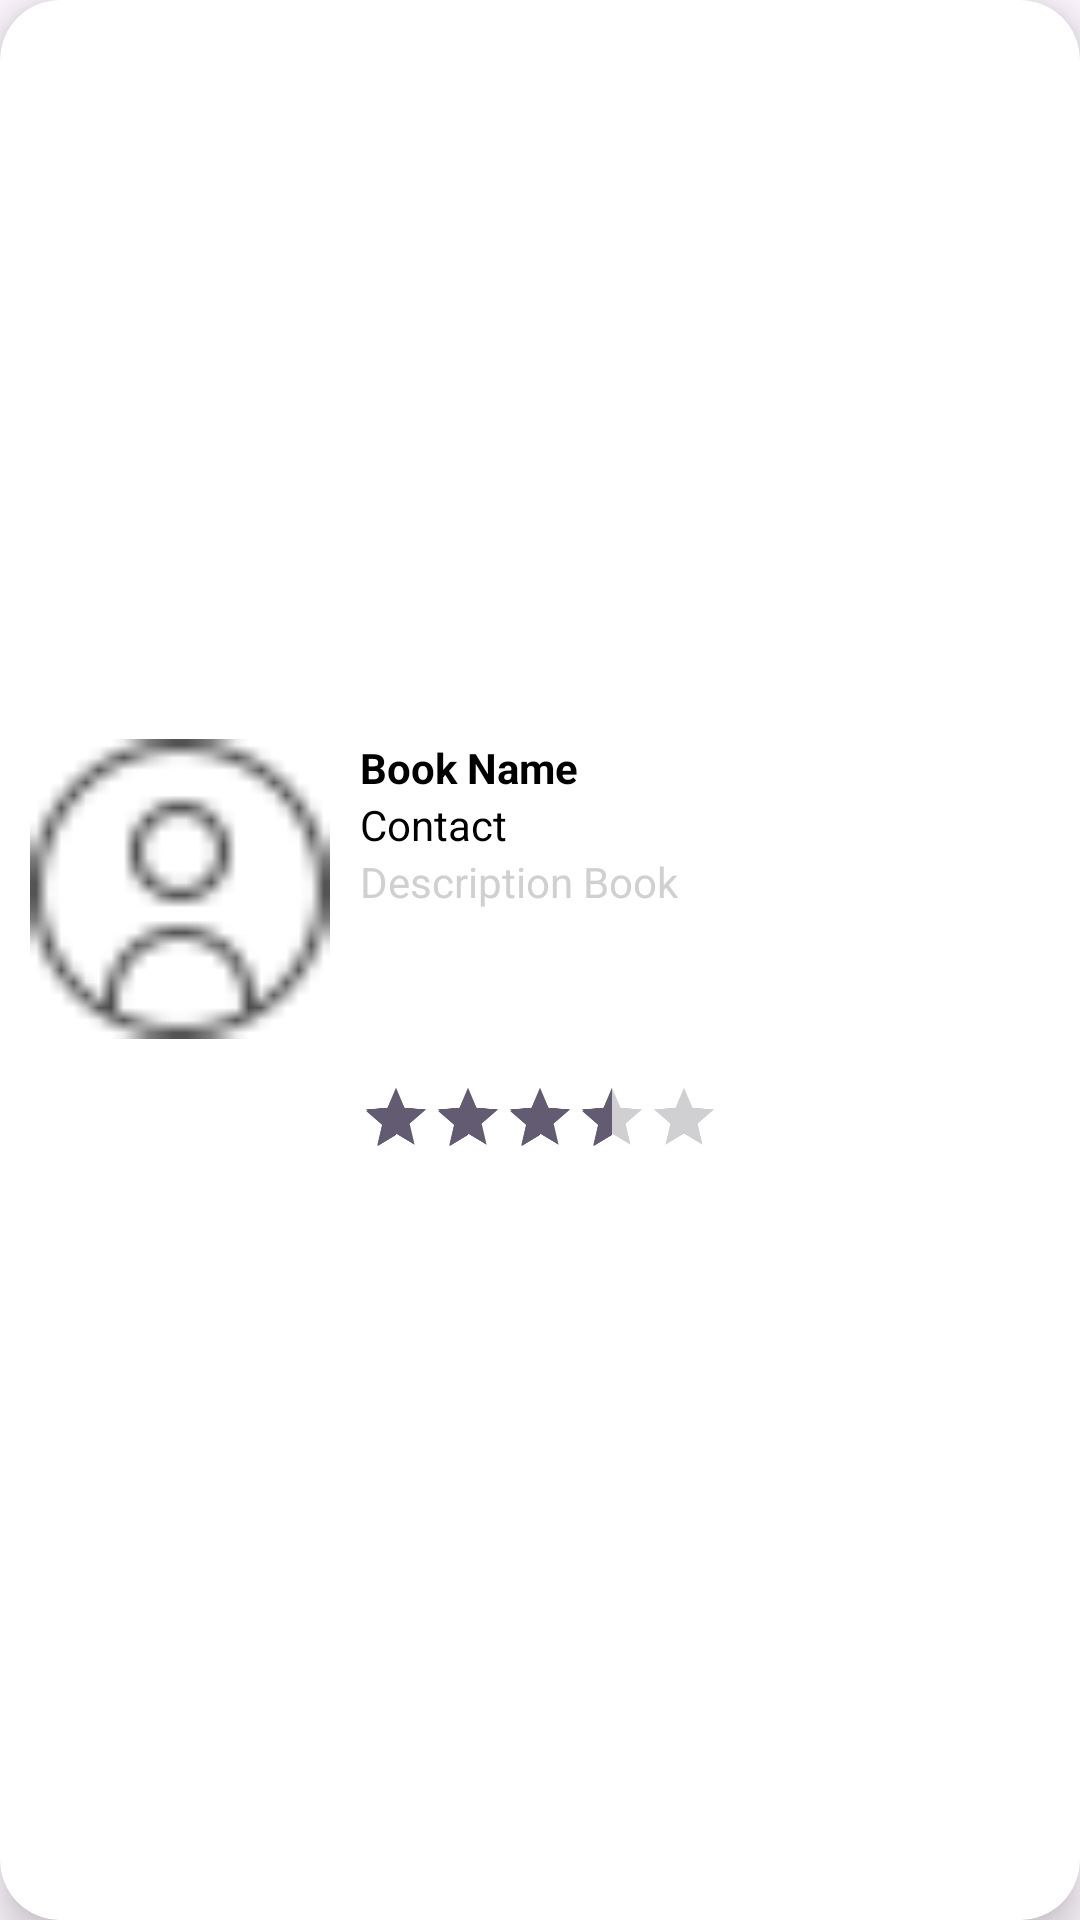

Where to tap for icons on this 1080 × 1920 app screen, as [x,y]:
username: [180,889]
